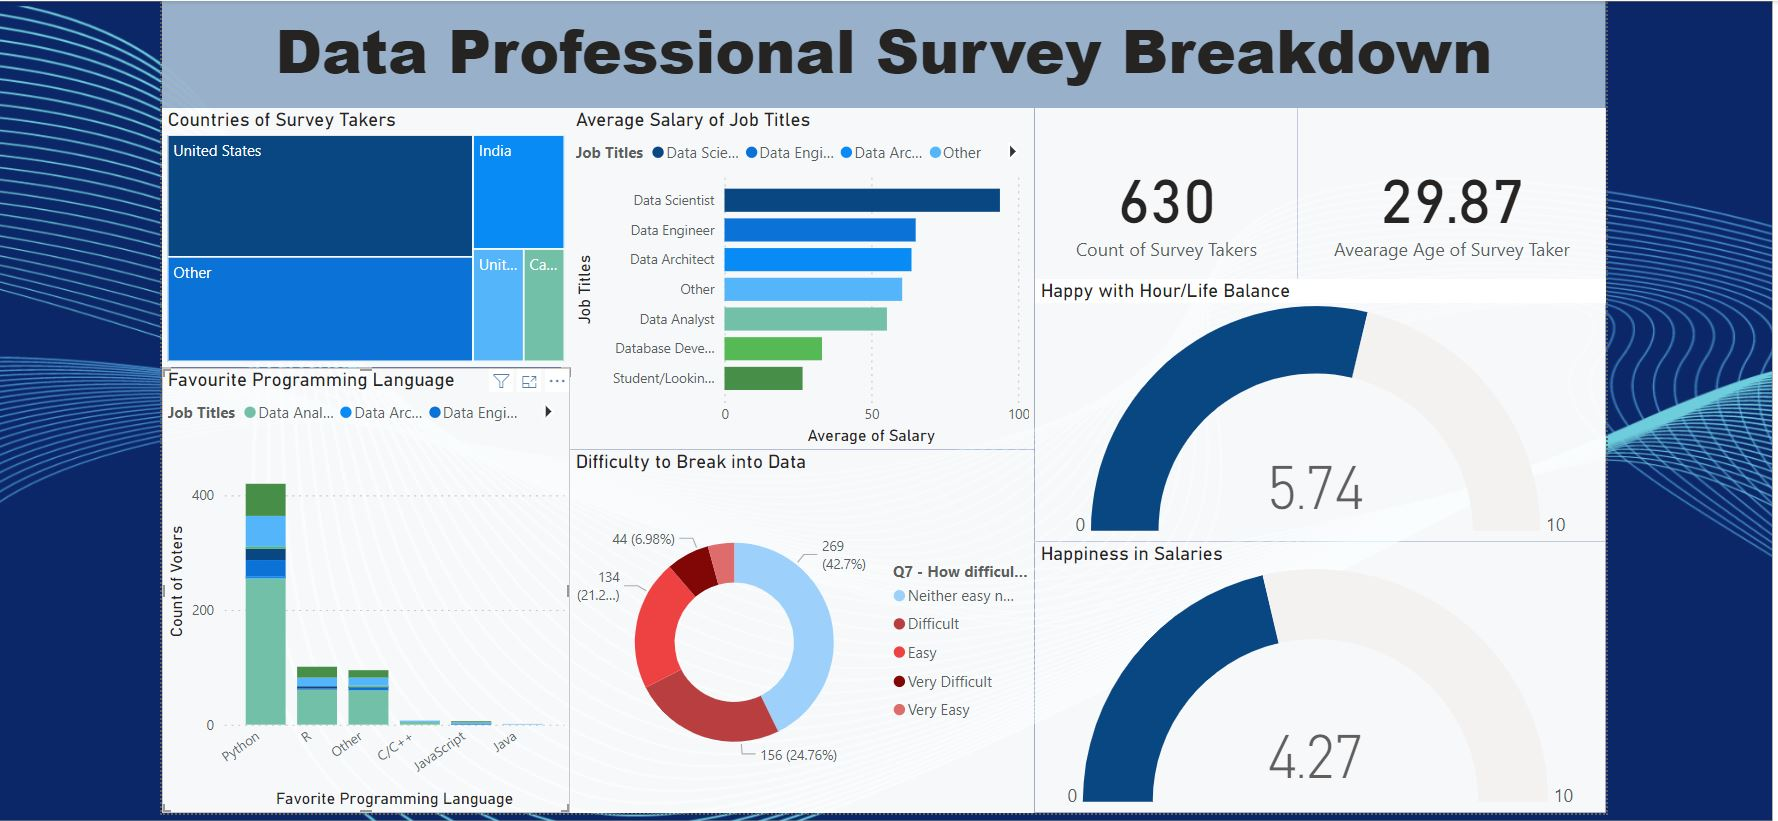

The page's visual inventory and layout, read from the dashboard file:
{"tool":"powerbi","page":{"name":"Page 1","canvas":[1280,720],"ordinal":0},"visuals":[{"type":"textbox","box":[0,0,1280.2,95],"z":0},{"type":"card","fields":{"Values":["Count(Data Professional Survey.Unique ID)"]},"box":[774.1,94.9,233.2,172.9],"z":1000},{"type":"card","fields":{"Values":["Avg(Data Professional Survey.Q10 - Current Age)"]},"box":[1007.1,94.7,272.9,173.1],"z":2000},{"type":"barChart","title":"Average Salary of Job Titles","fields":{"Category":["Data Professional Survey.Q1 - Which Title Best Fits your Current Role?.1"],"Y":["Avg(Data Professional Survey.Aveage Salary)"],"Series":["Data Professional Survey.Q1 - Which Title Best Fits your Current Role?.1"]},"box":[361.5,94.7,412.4,303.5],"z":3000},{"type":"columnChart","title":"Favourite Programming Language","fields":{"Category":["Data Professional Survey.Q5 - Favorite Programming Language.1"],"Y":["CountNonNull(Data Professional Survey.Unique ID)"],"Series":["Data Professional Survey.Q1 - Which Title Best Fits your Current Role?.1"]},"box":[0,325.4,361.8,394.6],"z":3001},{"type":"treemap","title":"Countries of Survey Takers","fields":{"Group":["Data Professional Survey.Q11 - Which Country do you live in?.1"],"Values":["CountNonNull(Data Professional Survey.Q11 - Which Country do you live in?.1)"]},"box":[0,94.9,361.8,229.7],"z":3002},{"type":"gauge","title":"Happy with Hour/Life Balance","fields":{"Y":["Avg(Data Professional Survey.Q6 - How Happy are you in your Current Position with the following? (Work/Life Balance))"],"MinValue":["Min(Data Professional Survey.Q6 - How Happy are you in your Current Position with the following? (Work/Life Balance))1"],"MaxValue":["Max(Data Professional Survey.Q6 - How Happy are you in your Current Position with the following? (Work/Life Balance))2"]},"box":[774.1,246.5,506.3,233.2],"z":3003},{"type":"gauge","title":"Happiness in Salaries","fields":{"Y":["Avg(Data Professional Survey.Q6 - How Happy are you in your Current Position with the following? (Salary))"],"MinValue":["Min(Data Professional Survey.Q6 - How Happy are you in your Current Position with the following? (Salary))"],"MaxValue":["Max(Data Professional Survey.Q6 - How Happy are you in your Current Position with the following? (Salary))"]},"box":[773.9,479.6,506.1,240.3],"z":3004},{"type":"donutChart","title":"Difficulty to Break into Data","fields":{"Category":["Data Professional Survey.Q7 - How difficult was it for you to break into Data?"],"Y":["CountNonNull(Data Professional Survey.Q7 - How difficult was it for you to break into Data?)"]},"box":[361.8,398.1,412.3,321.9],"z":3005}]}

Visuals, with their boxes on the page's 1280x720 design canvas (x1, y1, x2, y2). These are canvas units, not pixel positions in the 1778x821 screenshot, which may show the page scaled, cropped or inside an application window:
textbox: select_region(0, 0, 1280, 95)
card - Count(Data Professional Survey.Unique ID): select_region(774, 95, 1007, 268)
card - Avg(Data Professional Survey.Q10 - Current Age): select_region(1007, 95, 1280, 268)
"Average Salary of Job Titles" barChart: select_region(362, 95, 774, 398)
"Favourite Programming Language" columnChart: select_region(0, 325, 362, 720)
"Countries of Survey Takers" treemap: select_region(0, 95, 362, 325)
"Happy with Hour/Life Balance" gauge: select_region(774, 246, 1280, 480)
"Happiness in Salaries" gauge: select_region(774, 480, 1280, 720)
"Difficulty to Break into Data" donutChart: select_region(362, 398, 774, 720)
